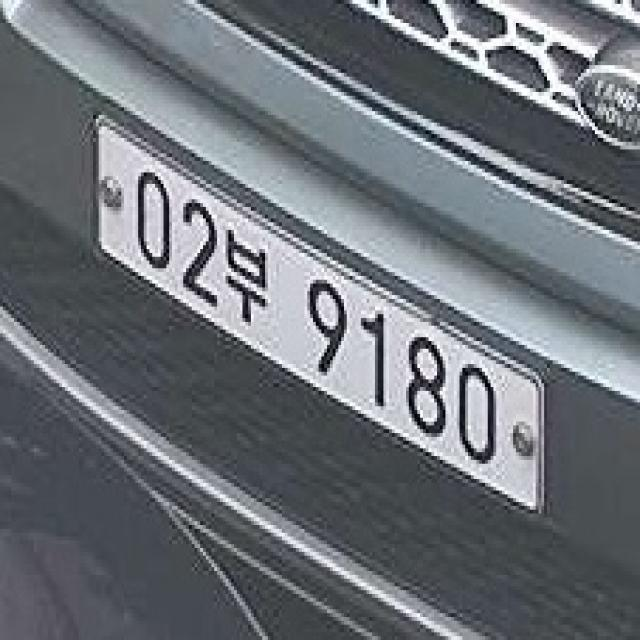0: (458, 361, 500, 474), (135, 162, 173, 272)
1: (360, 306, 396, 419)
2: (180, 196, 220, 310)
8: (406, 330, 446, 450)
9: (304, 274, 352, 391)
bu: (223, 222, 277, 338)
license_plate: (88, 92, 550, 533)
